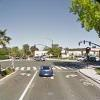Crosswalk: (14, 64, 73, 73)
